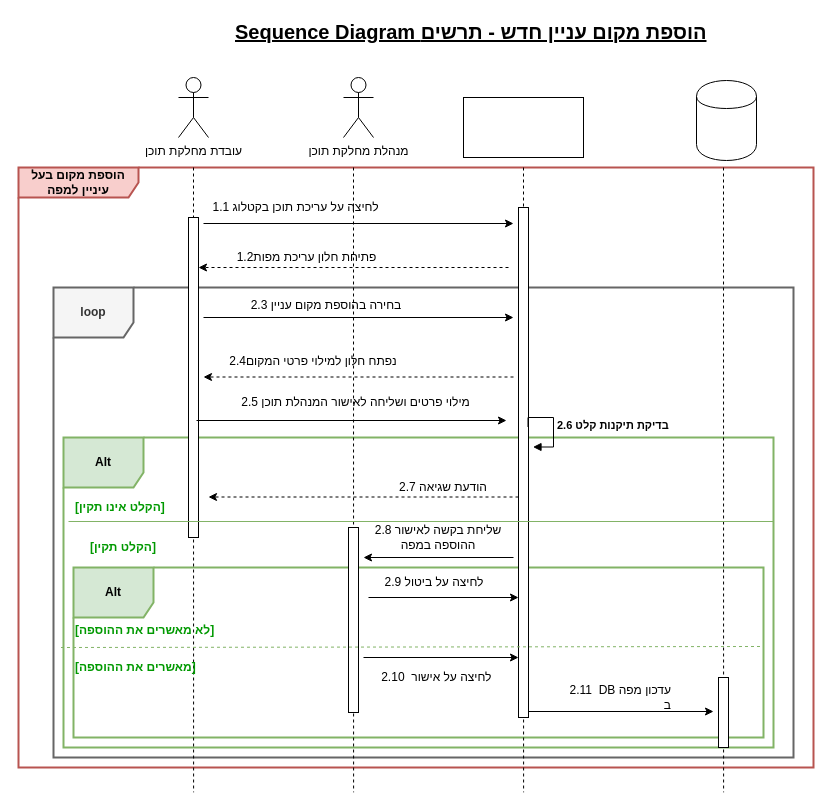
Image size: 831x811. Some labels were removed from this diagram. The shapes that lost their labels are listed below. From the top down, each one's centre as x and y in pixels, then its label:
At point 523,127: "System".
At point 726,120: "DB".
